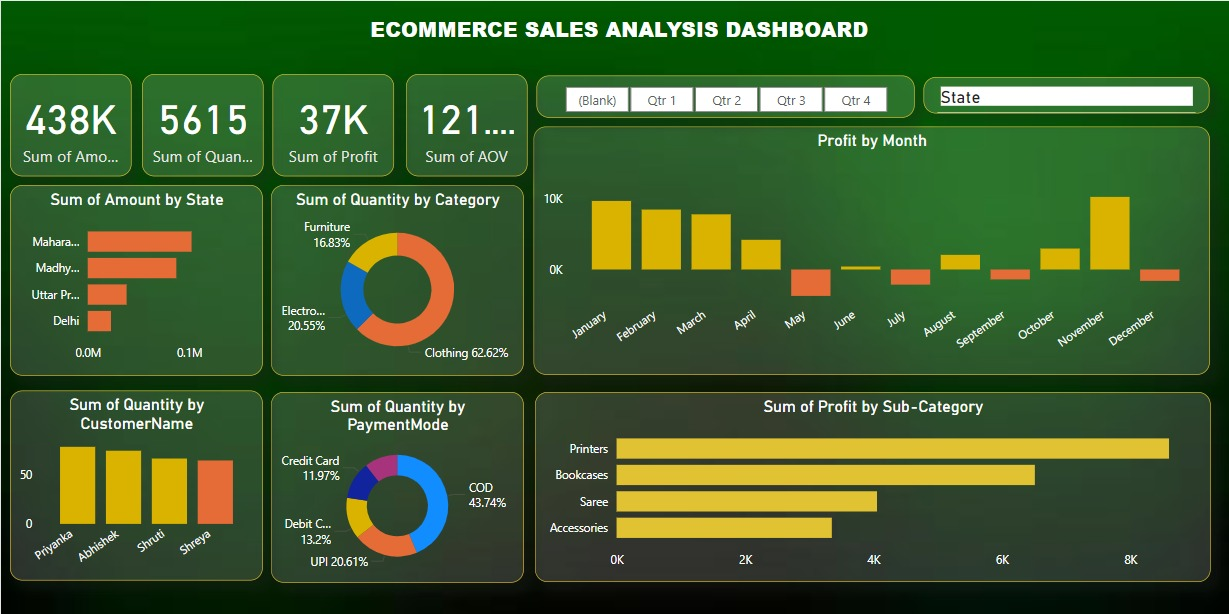

What the dashboard file says about the page in this screenshot:
{"tool":"powerbi","page":{"name":"Page 1","canvas":[1280,720],"ordinal":0},"visuals":[{"type":"textbox","box":[10,46,1270,50],"z":0},{"type":"columnChart","title":"Profit by Month","fields":{"Category":["Orders.Order Date(New).Variation.Date Hierarchy.Month"],"Y":["Details.Profit"]},"box":[555.6,166.7,704.4,258.9],"z":1000},{"type":"clusteredBarChart","fields":{"Category":["Details.Sub-Category"],"Y":["Details.Profit"]},"box":[556,444,704,198],"z":2000},{"type":"donutChart","fields":{"Category":["Details.Category"],"Y":["Details.Quantity"]},"box":[281.7,228.3,263.3,198.3],"z":3000},{"type":"donutChart","fields":{"Category":["Details.PaymentMode"],"Y":["Details.Quantity"]},"box":[281.7,443.3,263.3,198.3],"z":4000},{"type":"card","fields":{"Values":["Details.Amount"]},"box":[10,113,126.7,106.7],"z":5000},{"type":"card","fields":{"Values":["Details.Quantity"]},"box":[146.7,113,126.7,106.7],"z":6000},{"type":"card","fields":{"Values":["Details.AOV"]},"box":[421.7,113,126.7,106.7],"z":7000},{"type":"card","fields":{"Values":["Details.Profit"]},"box":[283.3,113,126.7,106.7],"z":8000},{"type":"clusteredBarChart","fields":{"Category":["Orders.State"],"Y":["Details.Amount"]},"box":[10,228.3,263.3,198.3],"z":9000},{"type":"columnChart","fields":{"Category":["Orders.CustomerName"],"Y":["Details.Quantity"]},"box":[10,443,263,198],"z":10000},{"type":"slicer","fields":{"Values":["Orders.Order Date(New).Variation.Date Hierarchy.Quarter"]},"box":[558.6,114.3,394.3,44.3],"z":11000},{"type":"slicer","fields":{"Values":["Orders.State"]},"box":[962,116,298,38],"z":12000}]}

Visuals, with their boxes on the page's 1280x720 design canvas (x1, y1, x2, y2). These are canvas units, not pixel positions in the 1229x614 screenshot, which may show the page scaled, cropped or inside an application window:
textbox: select_region(10, 46, 1280, 96)
"Profit by Month" columnChart: select_region(556, 167, 1260, 426)
clusteredBarChart - Details.Sub-Category x Details.Profit: select_region(556, 444, 1260, 642)
donutChart - Details.Category x Details.Quantity: select_region(282, 228, 545, 427)
donutChart - Details.PaymentMode x Details.Quantity: select_region(282, 443, 545, 642)
card - Details.Amount: select_region(10, 113, 137, 220)
card - Details.Quantity: select_region(147, 113, 273, 220)
card - Details.AOV: select_region(422, 113, 548, 220)
card - Details.Profit: select_region(283, 113, 410, 220)
clusteredBarChart - Orders.State x Details.Amount: select_region(10, 228, 273, 427)
columnChart - Orders.CustomerName x Details.Quantity: select_region(10, 443, 273, 641)
slicer - Orders.Order Date(New).Variation.Date Hierarchy.Quarter: select_region(559, 114, 953, 159)
slicer - Orders.State: select_region(962, 116, 1260, 154)
